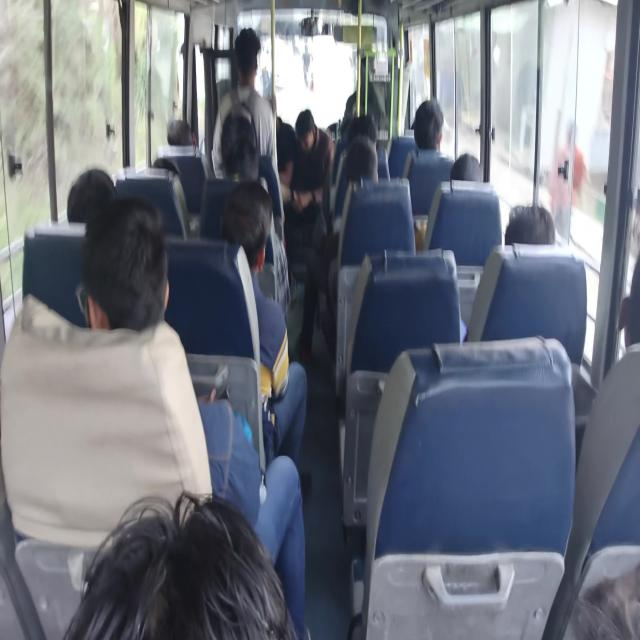person: (110, 439, 380, 640), (103, 185, 168, 351), (250, 97, 284, 370), (624, 242, 640, 452), (519, 203, 564, 269), (228, 128, 268, 197), (456, 156, 504, 213), (356, 123, 400, 183), (222, 185, 260, 254), (410, 101, 454, 159), (168, 106, 206, 169), (145, 144, 186, 202), (235, 26, 270, 92), (301, 108, 339, 166), (68, 159, 126, 194), (356, 141, 386, 188), (411, 108, 424, 131)
